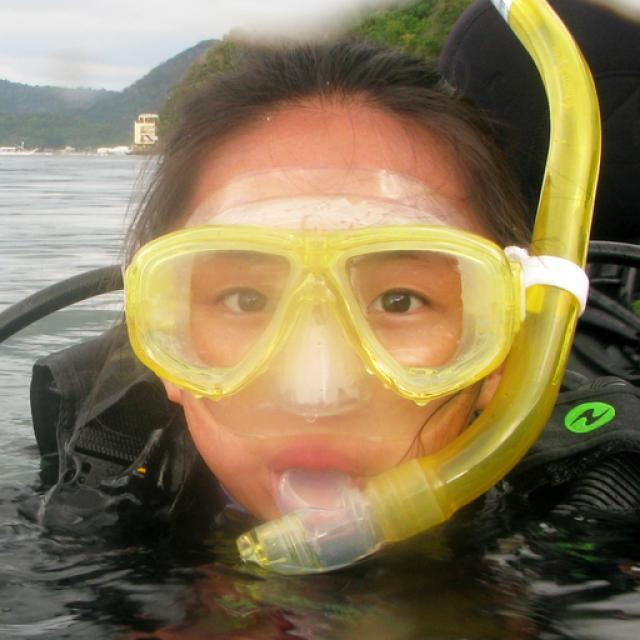neutral: (181, 91, 484, 528)
